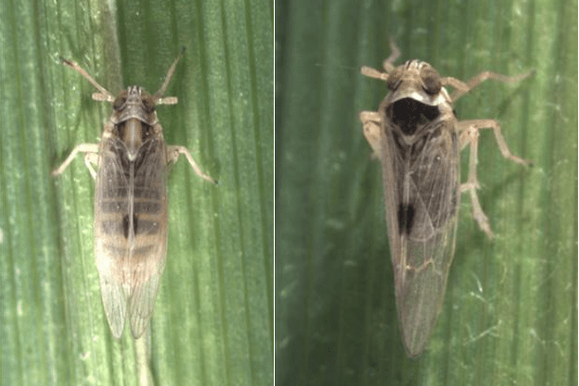Delphacidae: (357, 32, 536, 360), (49, 45, 218, 338)
